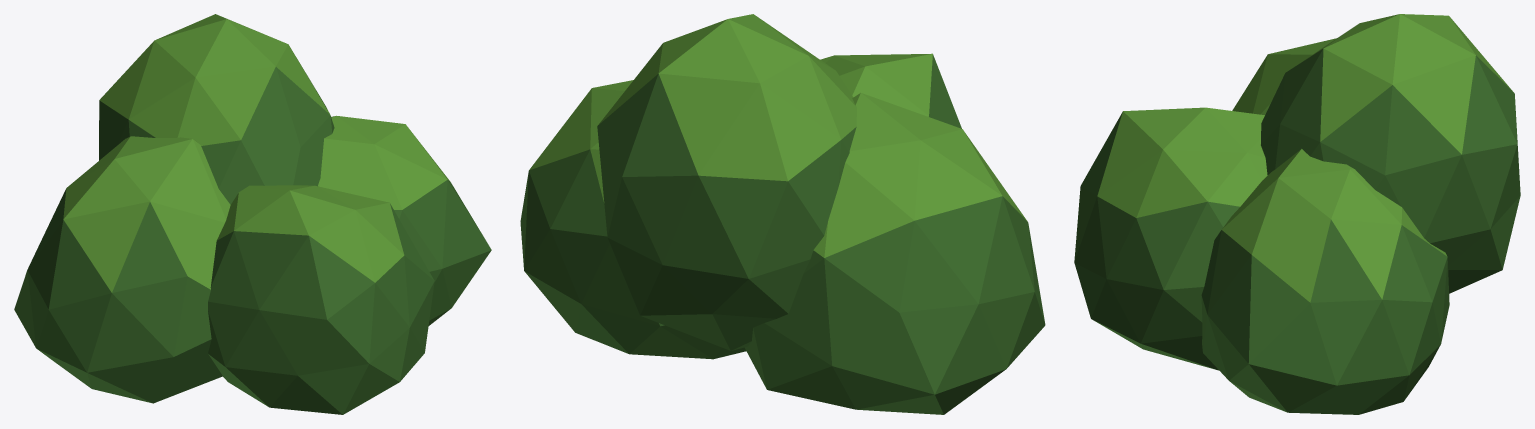
File: Veg_Busch_B.fbx
3 views of the same model, side by side, from view 1: azimuth 30°, elevation 25°; view 2: azimuth 150°, elevation 25°; view 3: azimuth 270°, elevation 25° (orthographic). The views are drawn at different scales.
Visible parts, largest first — view 1: Veg_Busch_B; view 2: Veg_Busch_B; view 3: Veg_Busch_B.
Part boxes in pixels (box(x1,y1,x2,y2)): Veg_Busch_B: box(14, 14, 491, 414); Veg_Busch_B: box(520, 14, 1045, 414); Veg_Busch_B: box(1074, 14, 1520, 414).
Bounding box in the file's own units: 1.2 × 0.8 × 1.01.
